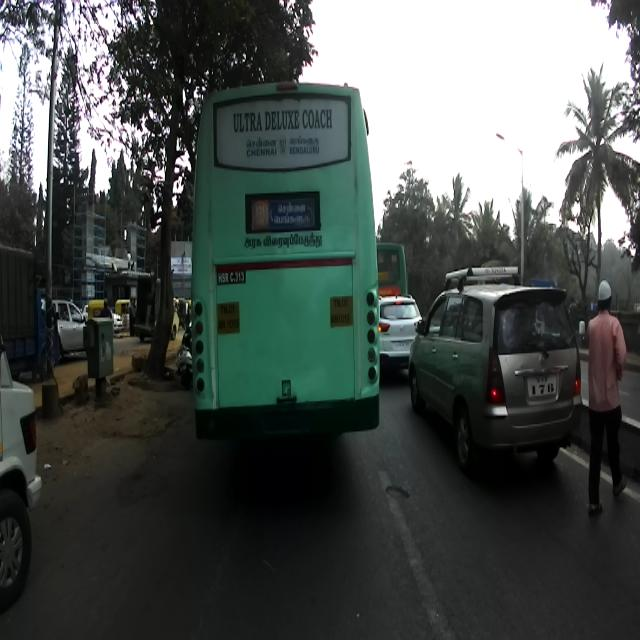barrier ahead at: (82, 310, 119, 385)
bus ahead at: (190, 86, 378, 447)
car ahead at: (412, 267, 583, 460)
person ahead at: (582, 278, 632, 526)
tree ahead at: (142, 56, 186, 385)
